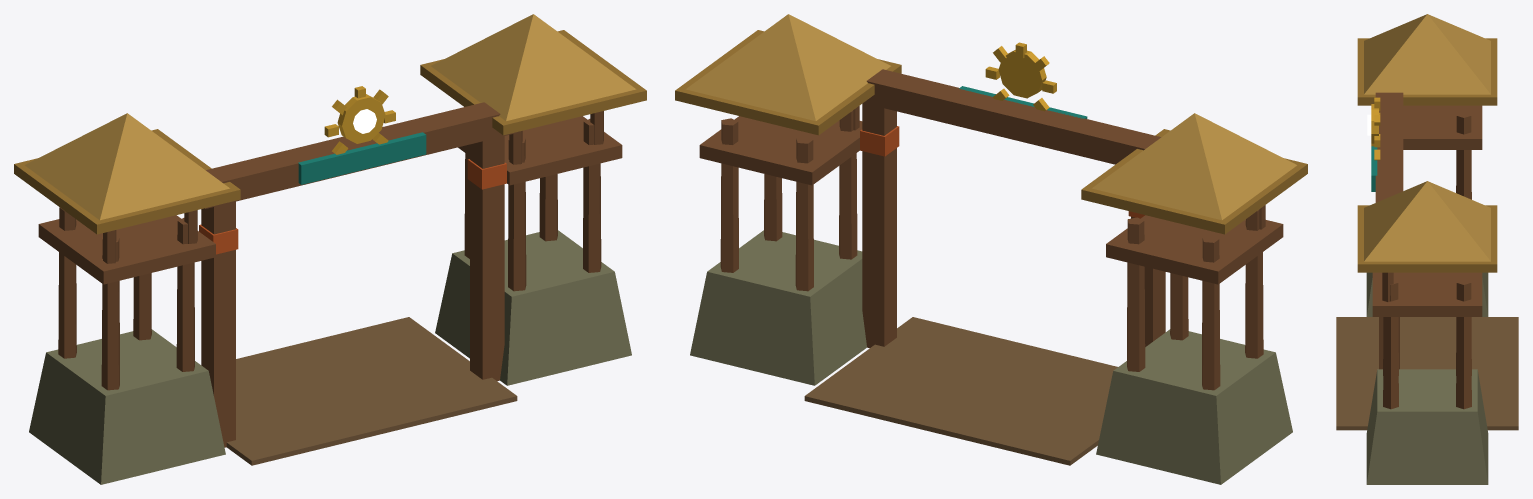
File: gate_t1.glb
3 renders of one model, left to right at view 1: azimuth 30°, elevation 25°; view 2: azimuth 150°, elevation 25°; view 3: azimuth 270°, elevation 25°, orthographic. The views are drawn at different scales.
Parts seen in each view (by area): view 1: body; view 2: body; view 3: body.
Part boxes in pixels (<box>): body: <box>14,14,646,484</box>; body: <box>675,14,1307,484</box>; body: <box>1336,14,1518,484</box>.
Size of the model in its own units: 3.52 by 2.02 by 1.2.
